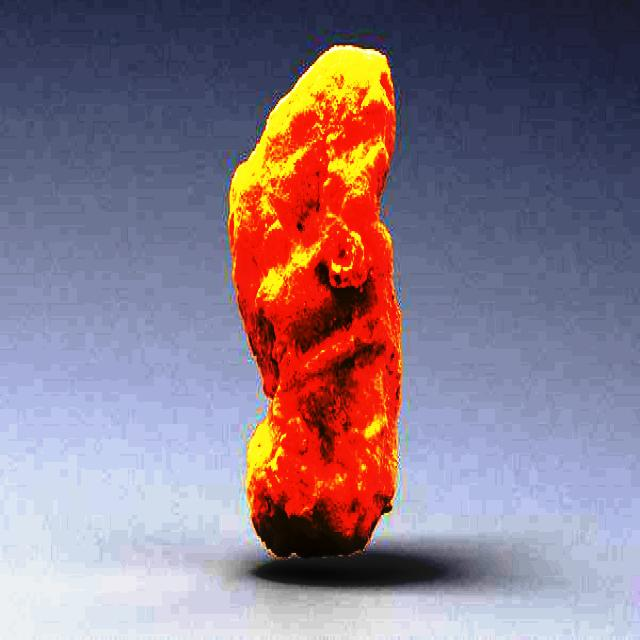chicken_nuggets: (228, 25, 410, 600)
